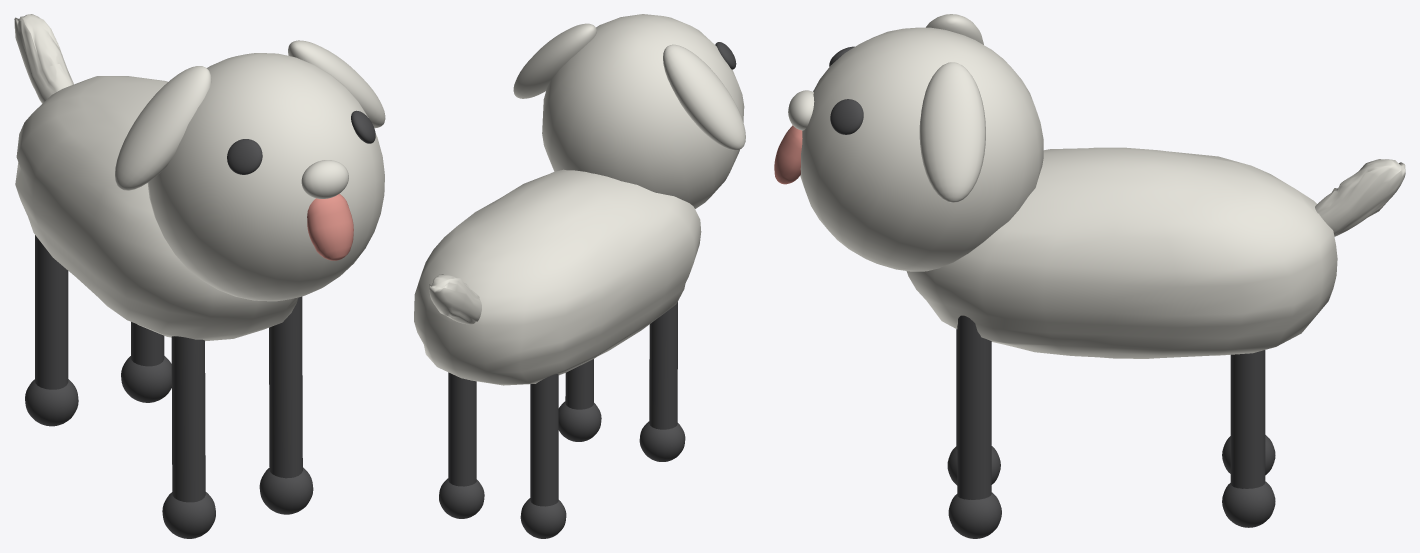
The model's file is Puppy-No Ani.fbx.
3 views of the same model, side by side, from view 1: azimuth 30°, elevation 25°; view 2: azimuth 150°, elevation 25°; view 3: azimuth 270°, elevation 25° (orthographic). The views are drawn at different scales.
Parts seen in each view (by area): view 1: Head, Body, Ears, pasted__Front_Leg, Front_LLeg, pasted__pasted__Front_LLeg, Tail, Tougue, pasted__pasted__Front_LFoot, pasted__Front_Foot, Front_LFoot, pasted__Front_LFoot (+3 smaller); view 2: Body, Head, Ears, pasted__pasted__Front_LLeg, pasted__Front_Leg, pasted__Front_LLeg, Tail, pasted__pasted__Front_LFoot, pasted__Front_Foot, pasted__Front_LFoot, Front_LFoot, Front_LLeg; view 3: Body, Head, Ears, Front_LLeg, pasted__Front_LLeg, Tail, Front_LFoot, pasted__Front_LFoot, Tougue, Eyes, Nose.
Boxes of the visible parts, box(x1,y1,x2,y2) form: Head: box(147, 53, 384, 301); Body: box(15, 76, 298, 341); Ears: box(115, 40, 385, 190); pasted__Front_Leg: box(171, 336, 205, 502); Front_LLeg: box(269, 296, 302, 478); pasted__pasted__Front_LLeg: box(35, 235, 68, 389); Tail: box(14, 14, 73, 103); Tougue: box(307, 194, 353, 260); pasted__pasted__Front_LFoot: box(25, 379, 78, 426); pasted__Front_Foot: box(162, 492, 215, 538); Front_LFoot: box(259, 467, 313, 514); pasted__Front_LFoot: box(121, 356, 171, 402); Body: box(414, 169, 701, 385); Head: box(542, 14, 744, 208); Ears: box(513, 23, 745, 150); pasted__pasted__Front_LLeg: box(530, 374, 558, 506); pasted__Front_Leg: box(649, 302, 677, 429); pasted__Front_LLeg: box(448, 372, 476, 486); Tail: box(429, 274, 481, 324); pasted__pasted__Front_LFoot: box(520, 498, 566, 538); pasted__Front_Foot: box(639, 421, 685, 461); pasted__Front_LFoot: box(439, 478, 484, 518); Front_LFoot: box(558, 401, 601, 441); Front_LLeg: box(565, 359, 593, 409); Body: box(906, 147, 1337, 358); Head: box(800, 27, 1043, 271); Ears: box(919, 14, 985, 202); Front_LLeg: box(957, 315, 991, 499); pasted__Front_LLeg: box(1230, 350, 1265, 488); Tail: box(1315, 159, 1405, 236); Front_LFoot: box(948, 492, 1001, 538); pasted__Front_LFoot: box(1222, 481, 1275, 527); Tougue: box(774, 125, 802, 184); Eyes: box(829, 46, 863, 134); Nose: box(788, 90, 814, 130).
Size of the model in its own units: 3.45 by 5.95 by 7.17.
